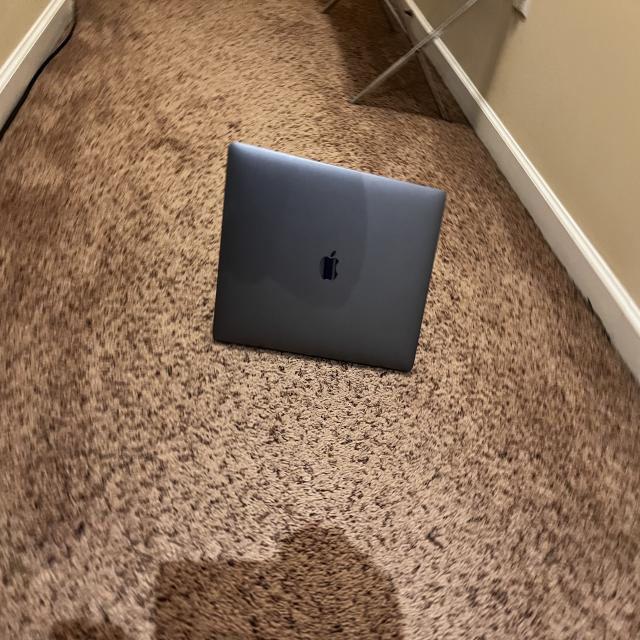laptop: (211, 139, 446, 372)
